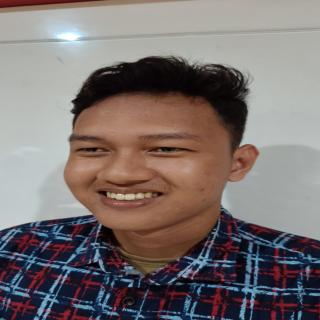Senang: (57, 88, 239, 234)
